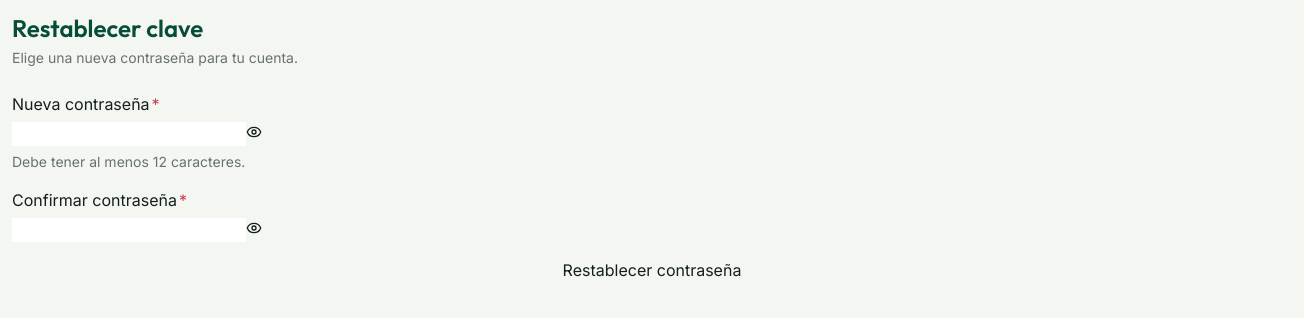
Test case: ResetPasswordPage › validates password confirmation matches before submitting
Expected: the heading "Restablecer clave" is shown, [12,13,203,43]
Type "Strong-Password-99!" into the password field labelled "Nueva contraseña". click: (129, 134)
box: [12,122,246,146]
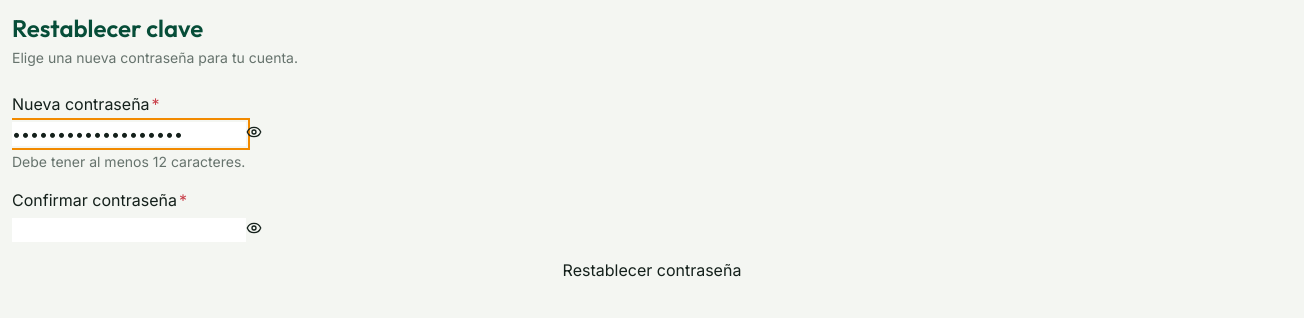
Type "Different-99!" into the password field labelled "Confirmar contraseña". click: (129, 230)
box: [12,218,246,242]
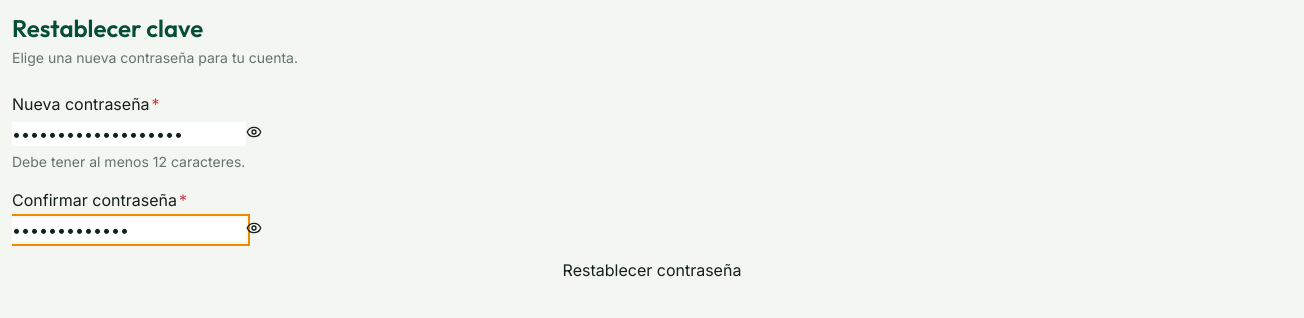
Click the button "Restablecer contraseña". click: (652, 270)
box: [12,258,1292,282]
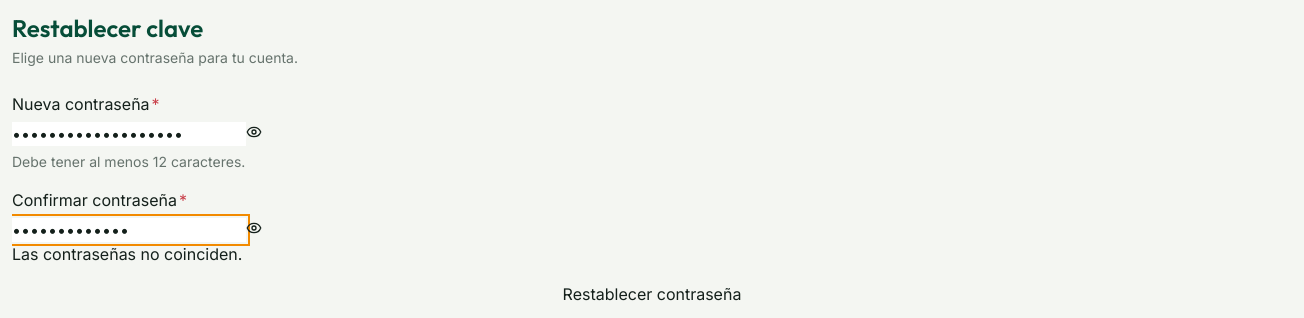
Result: the text "Las contraseñas no coinciden." is shown at [12,244,242,264]
